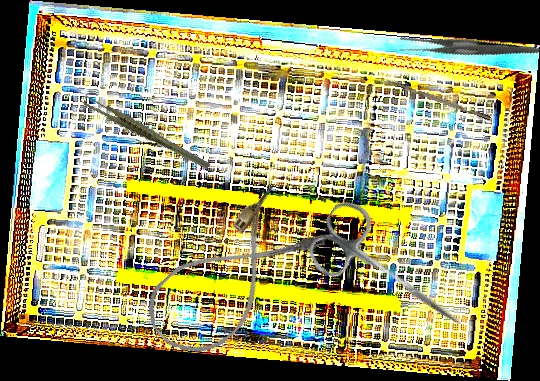Cannula: (132, 180, 332, 373)
Chopper: (380, 75, 492, 127)
Dressing Forceps: (396, 0, 540, 98)
Iris Scissors: (300, 194, 484, 353)
Tissue Forceps: (80, 74, 212, 192)
